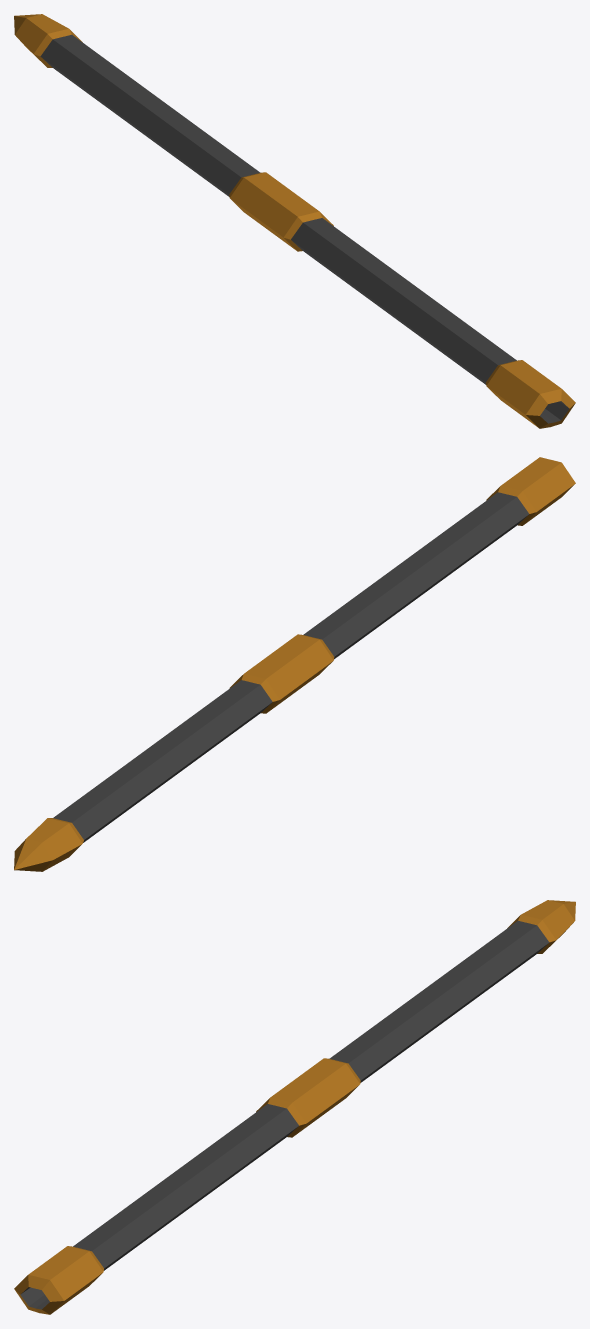
The model's file is RapierScabbard.fbx.
3 renders of one model, top to bottom at view 1: azimuth 30°, elevation 25°; view 2: azimuth 150°, elevation 25°; view 3: azimuth 330°, elevation 25°, orthographic.
Visible parts, largest first — view 1: RapierScabbard; view 2: RapierScabbard; view 3: RapierScabbard.
Boxes of the visible parts, x1,y1,x2,y2 form: RapierScabbard: (14, 14, 575, 428); RapierScabbard: (14, 457, 575, 871); RapierScabbard: (14, 900, 575, 1314).
Bounding box in the file's own units: 7.43 × 5.04 × 138.
